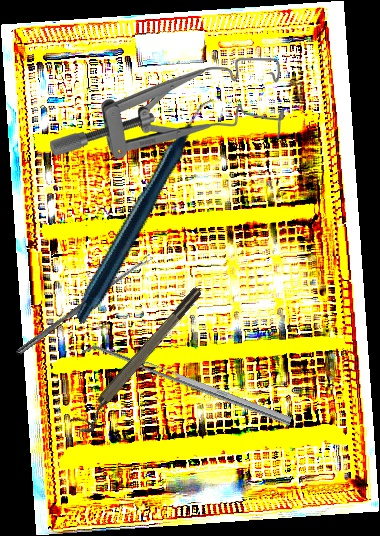Fixation Ring: (68, 283, 212, 439)
Handpiece: (18, 98, 276, 325)
Spatula Surgical: (80, 338, 293, 434)
Speculum: (50, 57, 285, 159)
Surgical Spoon: (14, 253, 154, 358)
